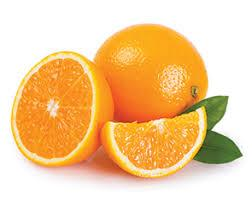orange: (16, 52, 115, 181), (86, 30, 219, 122), (84, 112, 216, 184)
